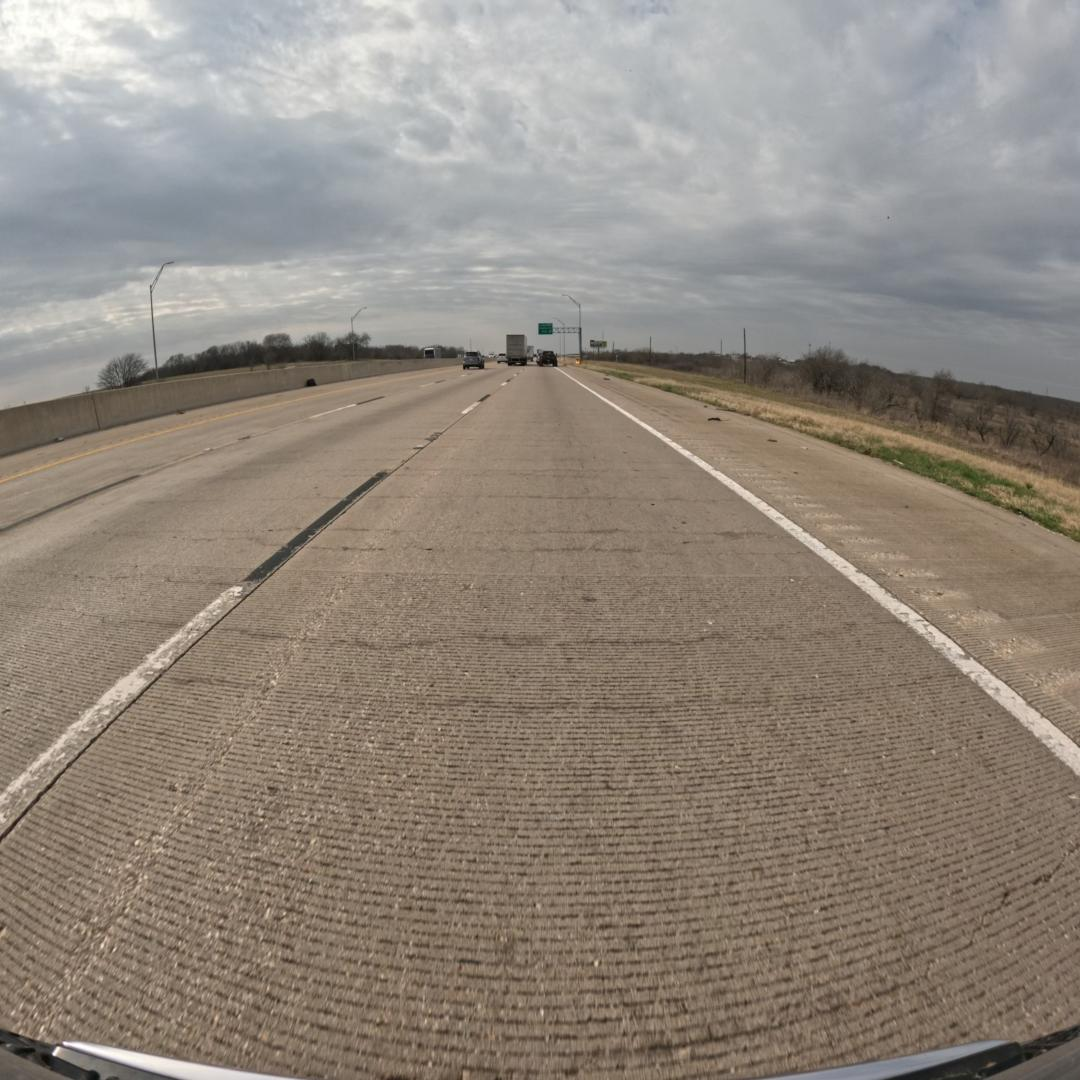lane0: (0, 365, 1080, 1079)
lane1: (0, 372, 513, 836)
